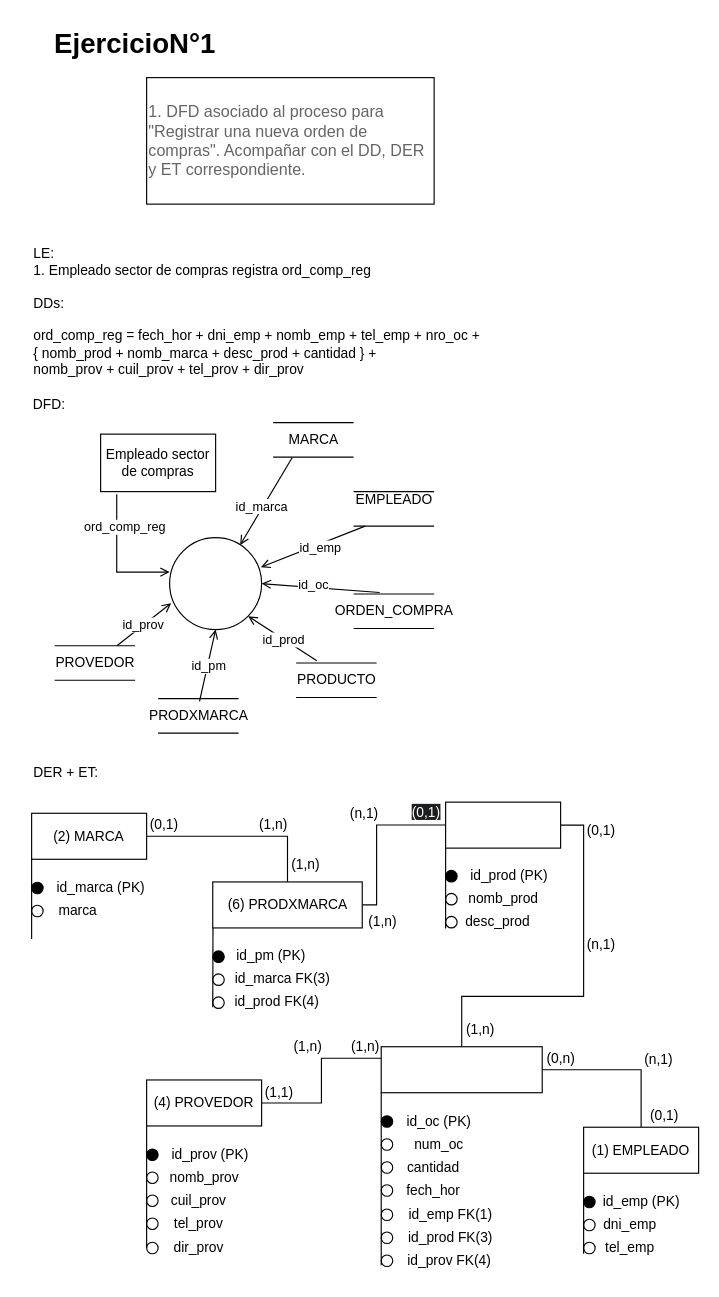
The diagram is 719 pixels wide and 1297 high, and some of its shapes have lost their labels. Here are the shapes that lost their labels. From the top down, the centre of each, then its label:
At point 215,583: "Registrar una orden de compra".
At point 502,824: "(3) PRODUCTO".
At point 461,1069: "(5) ORDENCOMPRA".
